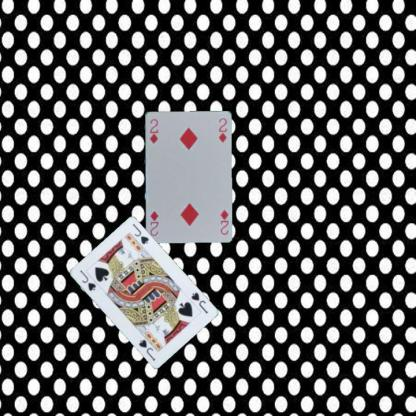2d: (217, 207, 230, 236), (147, 116, 159, 145)
Js: (188, 289, 210, 315), (77, 267, 97, 292)
